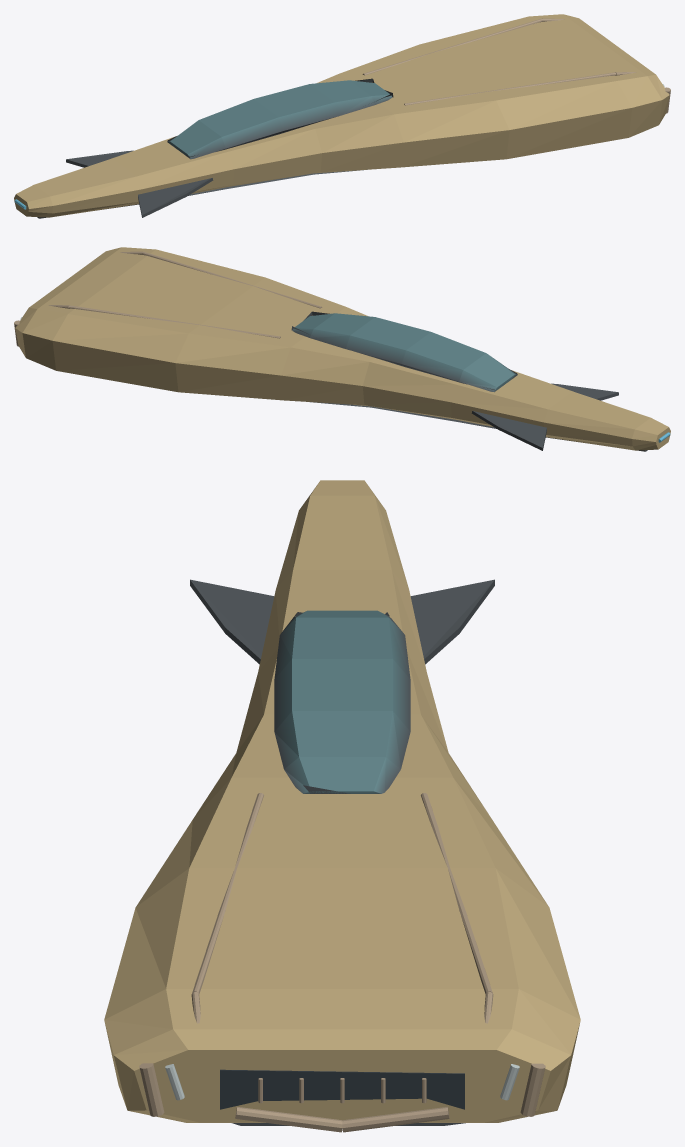
The model's file is jetjet_gold_flight.glb.
The picture shows the model from 3 angles, top to bottom: view 1: azimuth 30°, elevation 25°; view 2: azimuth 150°, elevation 25°; view 3: azimuth 270°, elevation 25°; orthographic projection. The views are drawn at different scales.
Parts seen in each view (by area): view 1: hull_0, cockpit_frame_2, aft_fins_7, bonnet_edge_3, lower_keel_1; view 2: hull_0, cockpit_frame_2, aft_fins_7, bonnet_edge_3, lower_keel_1; view 3: hull_0, cockpit_frame_2, aft_fins_7, front_grille_8, bonnet_edge_3, front_chevron_6, front_corner_4.
Part boxes in pixels (bbox=[...]): hull_0: bbox=[14, 14, 669, 217]; cockpit_frame_2: bbox=[167, 78, 393, 159]; aft_fins_7: bbox=[66, 150, 213, 217]; bonnet_edge_3: bbox=[362, 18, 636, 105]; lower_keel_1: bbox=[37, 169, 367, 218]; hull_0: bbox=[15, 247, 670, 450]; cockpit_frame_2: bbox=[291, 311, 517, 392]; aft_fins_7: bbox=[471, 383, 618, 450]; bonnet_edge_3: bbox=[48, 251, 322, 338]; lower_keel_1: bbox=[310, 402, 647, 451]; hull_0: bbox=[104, 480, 580, 1122]; cockpit_frame_2: bbox=[274, 610, 410, 793]; aft_fins_7: bbox=[190, 579, 494, 664]; front_grille_8: bbox=[220, 1069, 464, 1109]; bonnet_edge_3: bbox=[191, 793, 493, 1023]; front_chevron_6: bbox=[235, 1107, 449, 1132]; front_corner_4: bbox=[139, 1063, 545, 1116].
Bounding box in the file's own units: 10.21 × 1.23 × 3.5.
